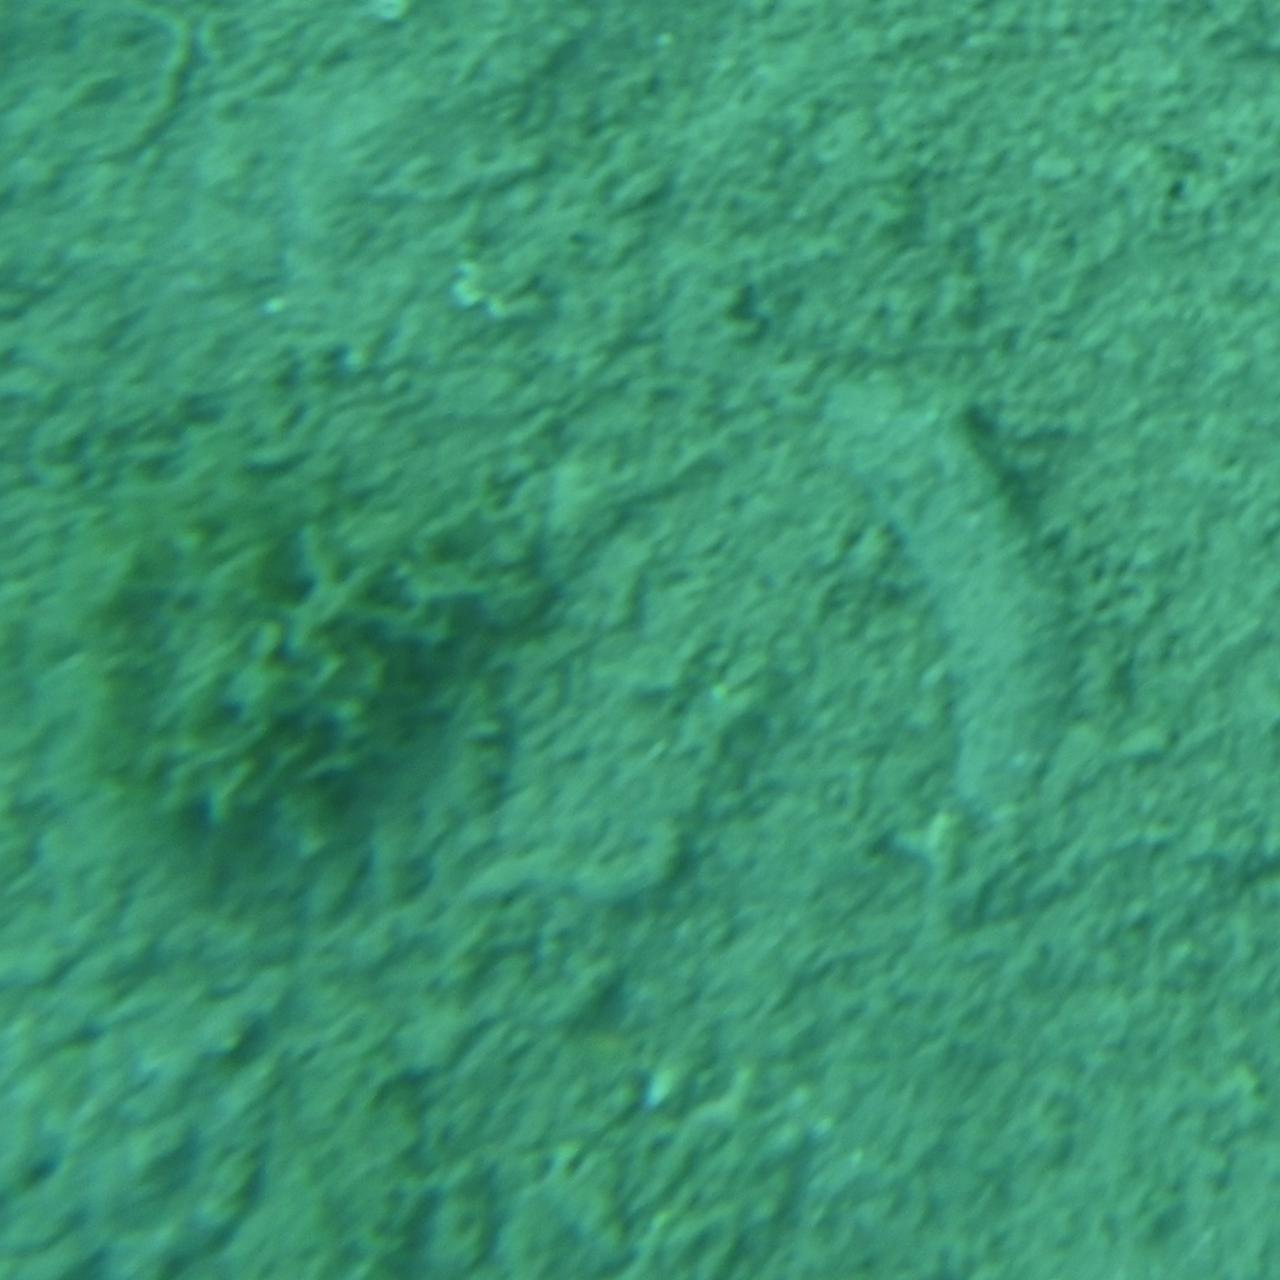Holothuria tubulosa: (794, 354, 1085, 907)
Phaeophyceae -cfr Cystoseira-: (100, 454, 580, 846)
